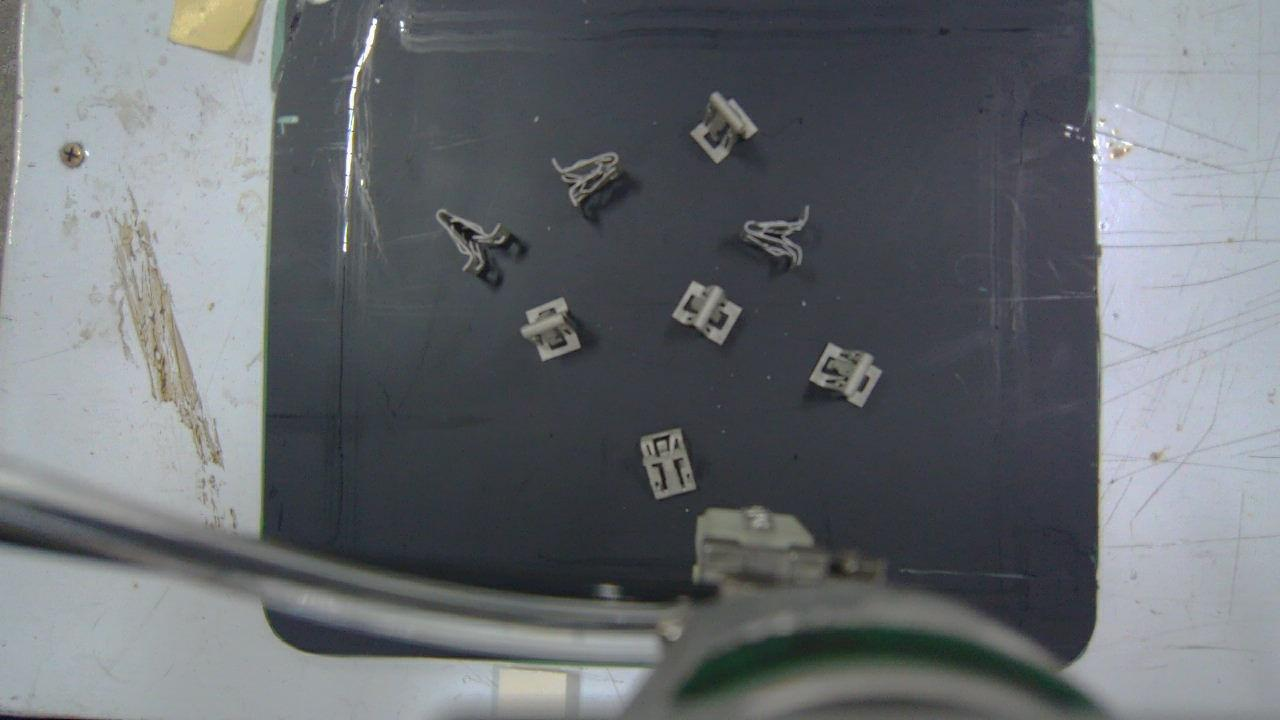ng: (436, 208, 514, 274), (689, 91, 757, 162), (742, 206, 809, 269), (639, 428, 696, 500), (552, 153, 619, 210)
pass: (808, 343, 881, 409), (671, 280, 742, 345), (522, 296, 579, 361)
